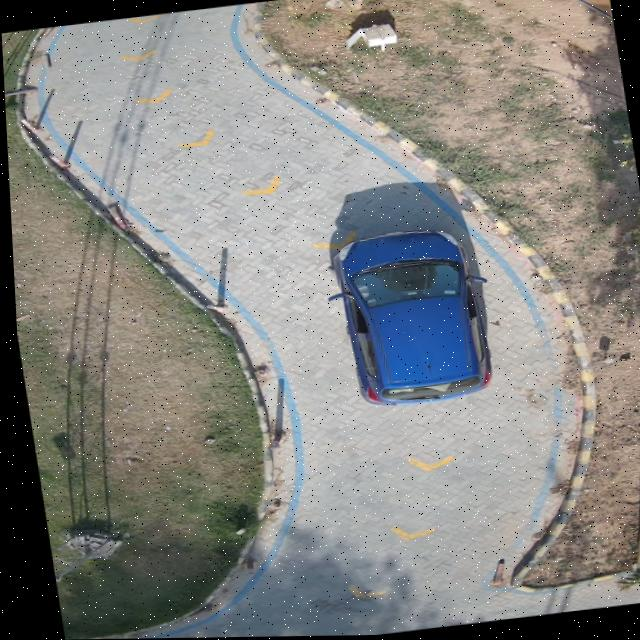car: (326, 230, 487, 405)
